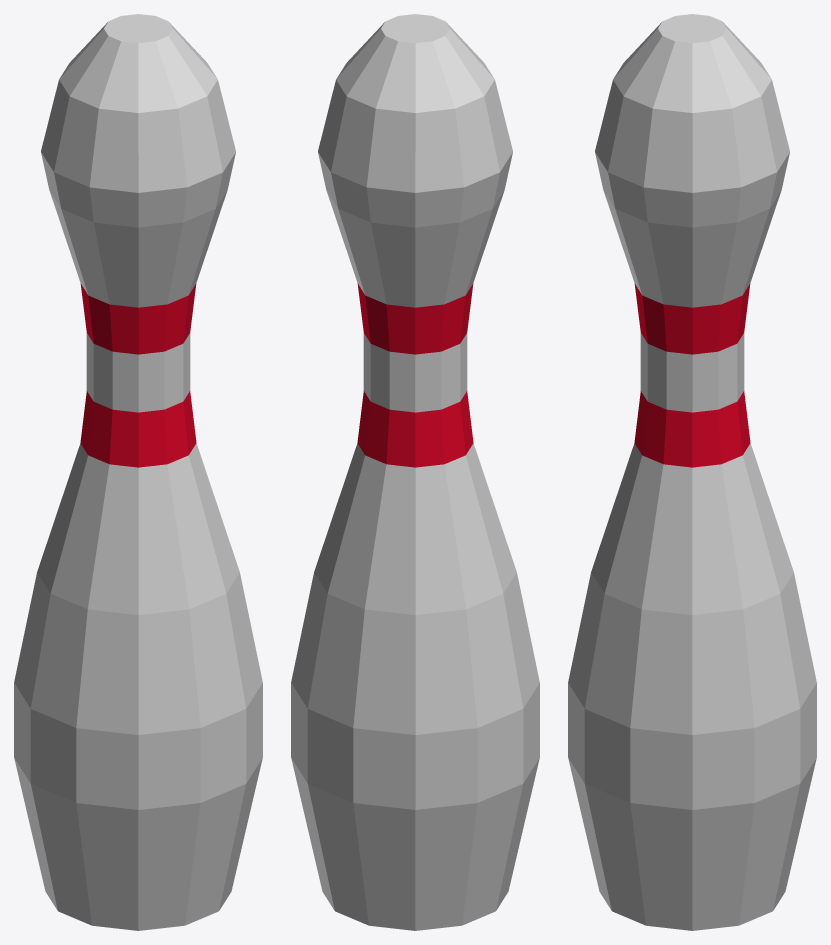
File: pin.glb
3 views of the same model, side by side, from view 1: azimuth 30°, elevation 25°; view 2: azimuth 150°, elevation 25°; view 3: azimuth 270°, elevation 25° (orthographic).
Visible parts, largest first — view 1: Cylinder; view 2: Cylinder; view 3: Cylinder.
Boxes of the visible parts, box(x1,y1,x2,y2) form: Cylinder: box(14, 14, 262, 930); Cylinder: box(291, 14, 539, 930); Cylinder: box(568, 14, 816, 930).
Bounding box in the file's own units: 2.68 × 10.24 × 2.68.
